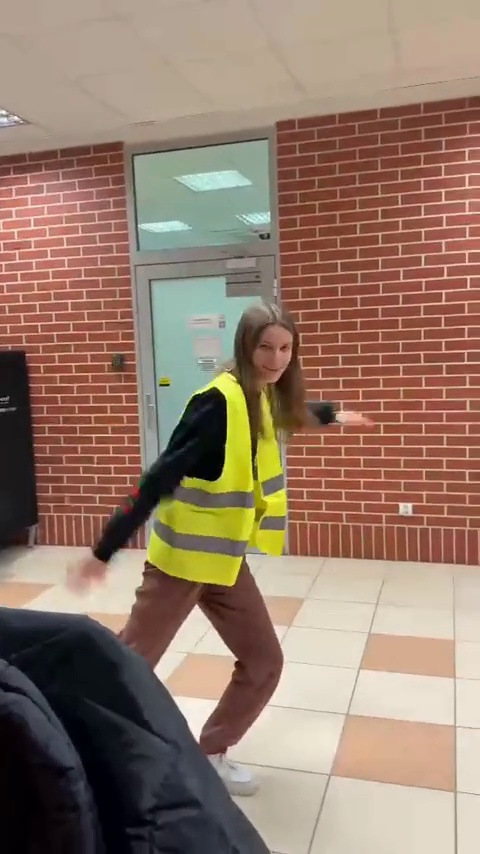vest: (168, 295, 304, 768)
